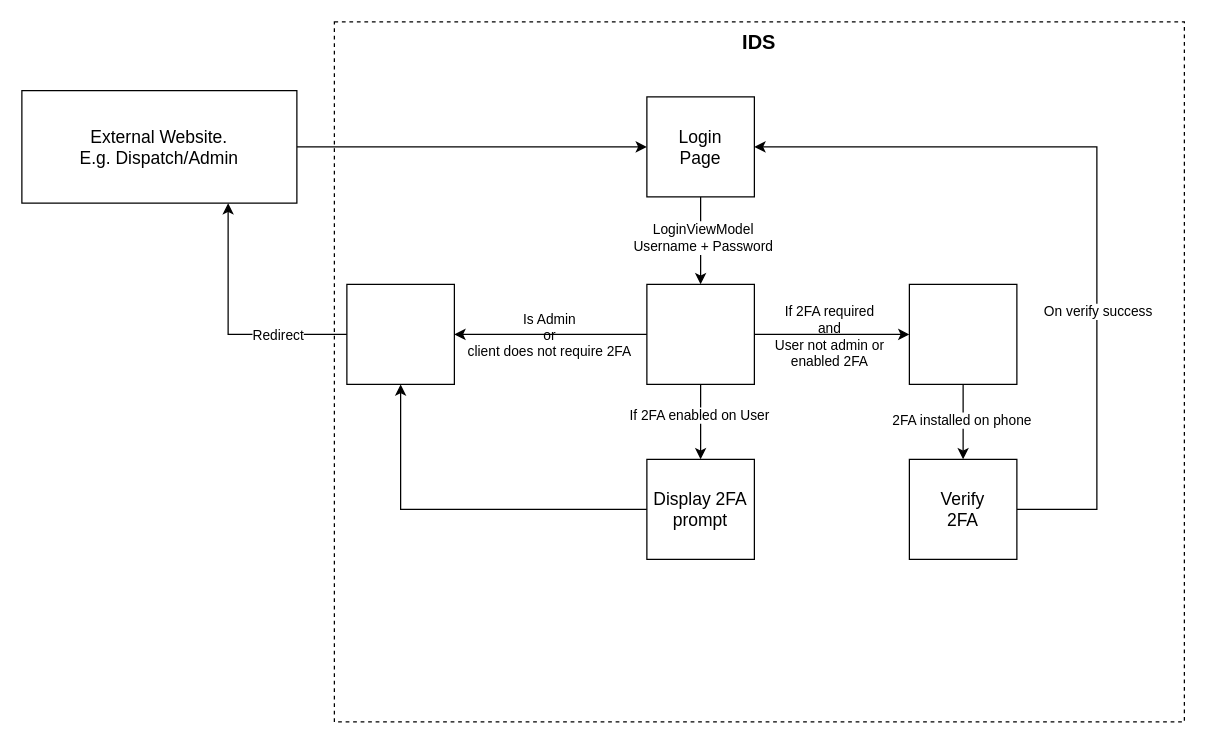
Image size: 1206x744. Some labels were removed from this diagram. The centre of each missing label's shape, as x and y in pixels:
Complete Login: the point at 400,333
Display Enable 2FA Prompt: the point at 962,333
Login: the point at 700,333
